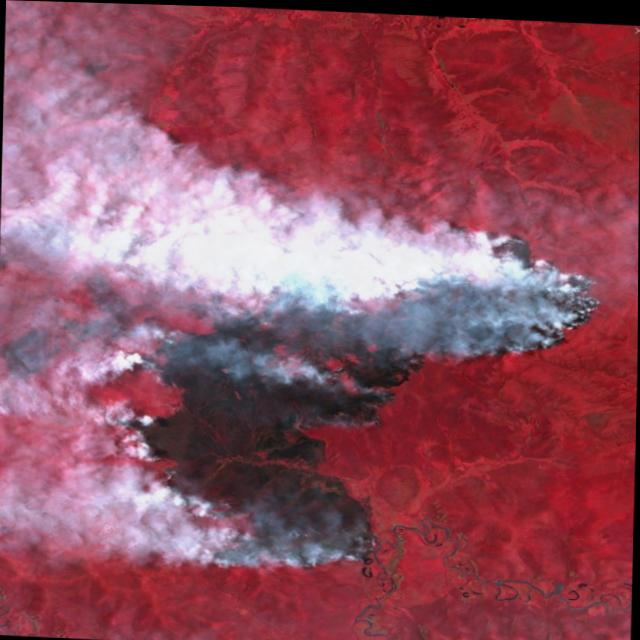fire: (92, 204, 616, 588)
